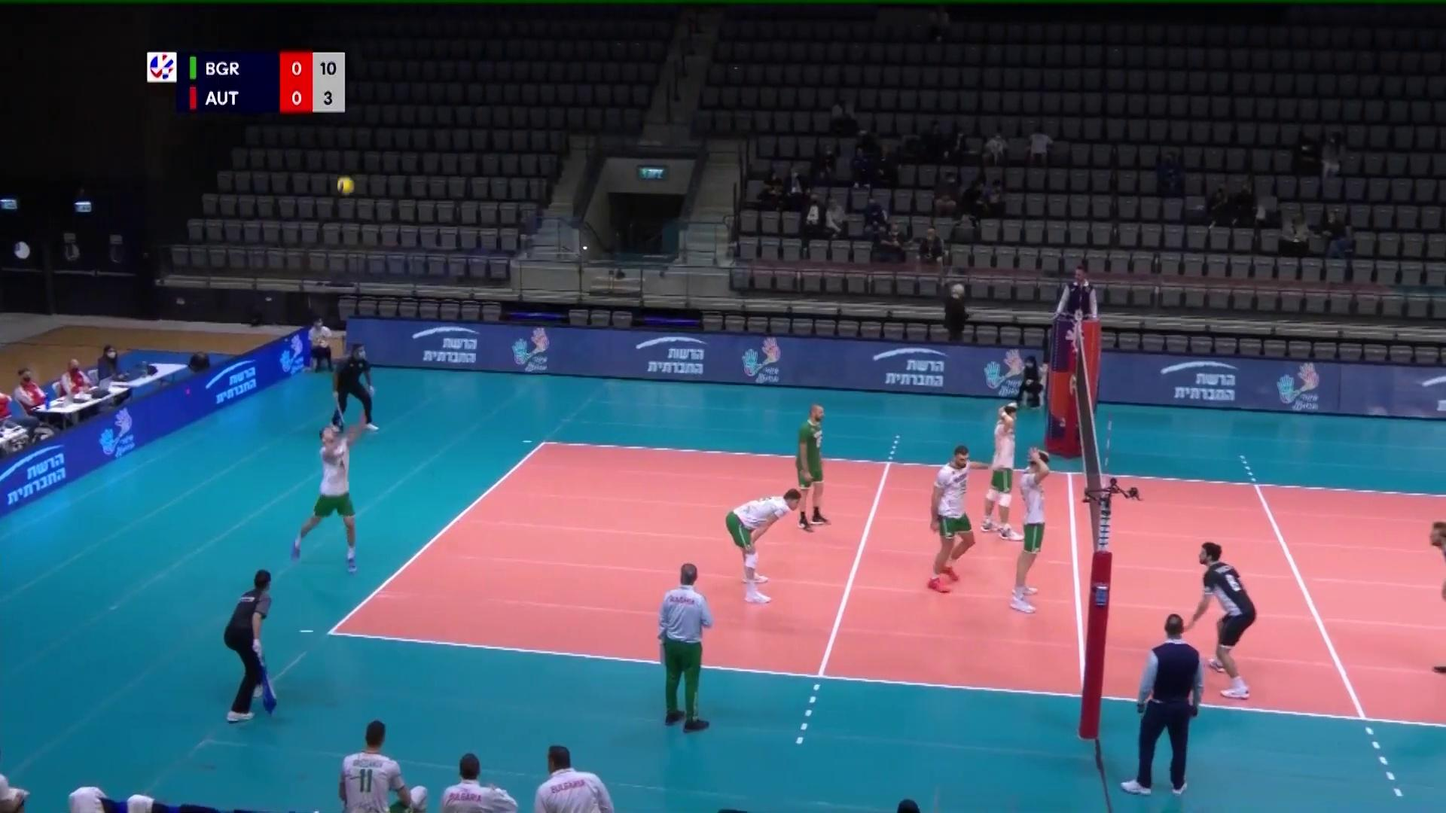ball: (335, 176, 357, 197)
